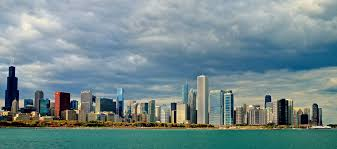willis: (4, 53, 22, 113)
